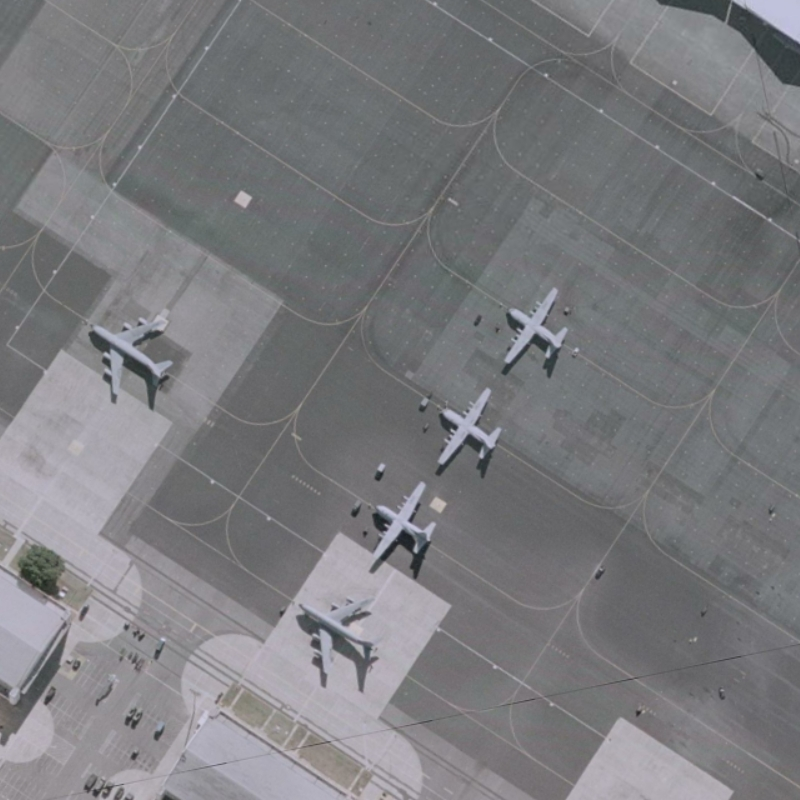A14: (85, 312, 178, 400), (292, 594, 386, 679)
A2: (365, 479, 439, 572), (434, 385, 506, 473), (496, 286, 571, 370)
